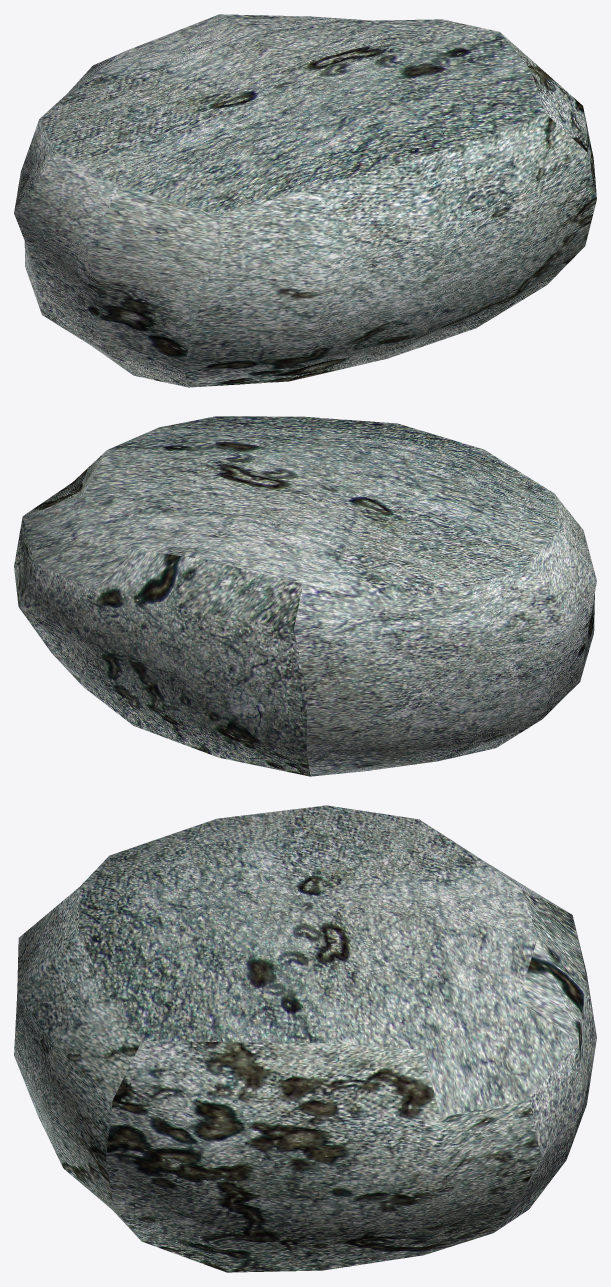
File: Rock04.fbx
3 views of the same model, one above another, from view 1: azimuth 30°, elevation 25°; view 2: azimuth 150°, elevation 25°; view 3: azimuth 270°, elevation 25° (orthographic). The views are drawn at different scales.
Parts seen in each view (by area): view 1: Cube_001; view 2: Cube_001; view 3: Cube_001.
Part boxes in pixels (<box>): Cube_001: <box>14,14,596,387</box>; Cube_001: <box>14,416,596,776</box>; Cube_001: <box>14,805,596,1272</box>.
Size of the model in its own units: 2.28 by 1.01 by 1.85.
Materials: 1 (1 with a texture image).
